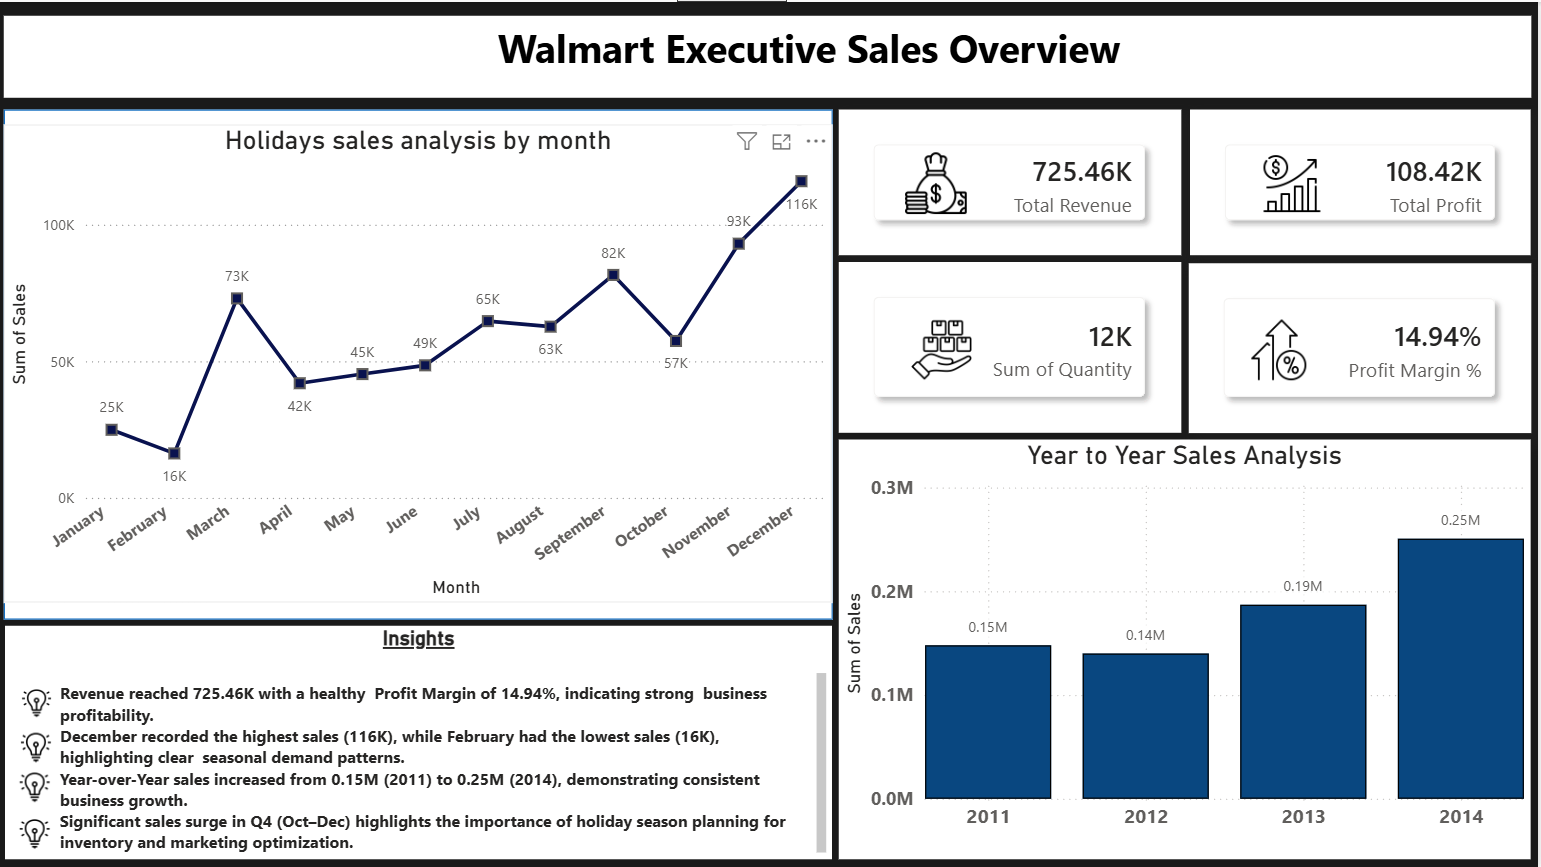

The page's visual inventory and layout, read from the dashboard file:
{"tool":"powerbi","page":{"name":"Page 1","canvas":[1280,720],"ordinal":0},"visuals":[{"type":"textbox","box":[7,11.1,1266.1,68.2],"z":1000},{"type":"cardVisual","fields":{"Data":["walmart.Total Revenue"]},"box":[699.8,89,283.8,121],"z":2000},{"type":"cardVisual","fields":{"Data":["walmart.Total Profit"]},"box":[990.6,89,282.4,121],"z":3000},{"type":"cardVisual","fields":{"Data":["walmart.Profit Margin %"]},"box":[989.2,217,283.8,140.5],"z":4000},{"type":"cardVisual","fields":{"Data":["Sum(walmart.Quantity)"]},"box":[699.8,215.7,283.8,141.9],"z":5000},{"type":"lineClusteredColumnComboChart","title":"Year to Year Sales Analysis","fields":{"Category":["walmart.Order Date.Variation.Date Hierarchy.Year"],"Y":["Sum(walmart.Sales)"]},"box":[699.8,363.1,573.2,347.8],"z":6000},{"type":"shape","box":[7,89,687.3,423],"z":7000},{"type":"lineChart","title":" Holidays sales analysis by month","fields":{"Y":["Sum(walmart.Sales)"],"Category":["walmart.Order Date.Variation.Date Hierarchy.Month"]},"box":[7,101.6,687.3,396.5],"z":8000},{"type":"image","box":[754.1,97.4,51.5,105.7],"z":9000},{"type":"image","box":[1040.7,125.2,69.6,50.1],"z":10000},{"type":"image","box":[1031,263,66.8,50.1],"z":11000},{"type":"image","box":[727.7,263,114.1,50.1],"z":12000},{"type":"textbox","title":"Insights","box":[8.3,517.6,685.9,193.4],"z":13000},{"type":"image","box":[7,569,54.3,25],"z":14000},{"type":"image","box":[19.5,665,26.4,48.7],"z":15000},{"type":"image","box":[19.5,628.9,26.4,44.5],"z":16000},{"type":"image","box":[20.9,589.9,26.4,57],"z":17000}]}

Visuals, with their boxes in screenshot pixels (x1, y1, x2, y2), scaled from the page's 1280x720 canvas onto the 1541x867 screenshot:
textbox: box=[8, 13, 1533, 95]
cardVisual - walmart.Total Revenue: box=[842, 107, 1184, 253]
cardVisual - walmart.Total Profit: box=[1193, 107, 1533, 253]
cardVisual - walmart.Profit Margin %: box=[1191, 261, 1533, 430]
cardVisual - Sum(walmart.Quantity): box=[842, 260, 1184, 431]
"Year to Year Sales Analysis" lineClusteredColumnComboChart: box=[842, 437, 1533, 856]
shape: box=[8, 107, 836, 617]
" Holidays sales analysis by month" lineChart: box=[8, 122, 836, 600]
image: box=[908, 117, 970, 245]
image: box=[1253, 151, 1337, 211]
image: box=[1241, 317, 1322, 377]
image: box=[876, 317, 1013, 377]
"Insights" textbox: box=[10, 623, 836, 856]
image: box=[8, 685, 74, 715]
image: box=[23, 801, 55, 859]
image: box=[23, 757, 55, 811]
image: box=[25, 710, 57, 779]
